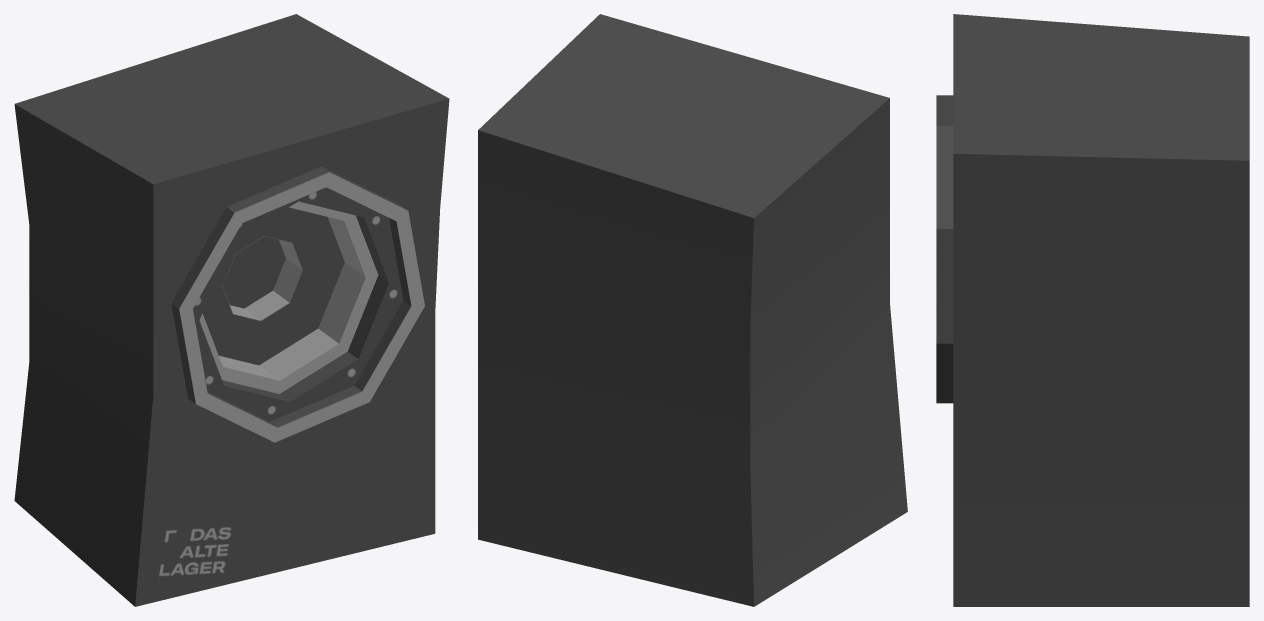
Rendered from PT_subwoofer.FBX.
3 views of the same model, side by side, from view 1: azimuth 30°, elevation 25°; view 2: azimuth 150°, elevation 25°; view 3: azimuth 270°, elevation 25° (orthographic). The views are drawn at different scales.
Parts seen in each view (by area): view 1: Box146; view 2: Box146; view 3: Box146.
Part boxes in pixels (x1,y1,x2,y2): Box146: [14, 14, 449, 606]; Box146: [478, 14, 907, 606]; Box146: [936, 14, 1249, 606].
Bounding box in the file's own units: 14.14 × 18.55 × 11.43.
1 material, 1 textured.
